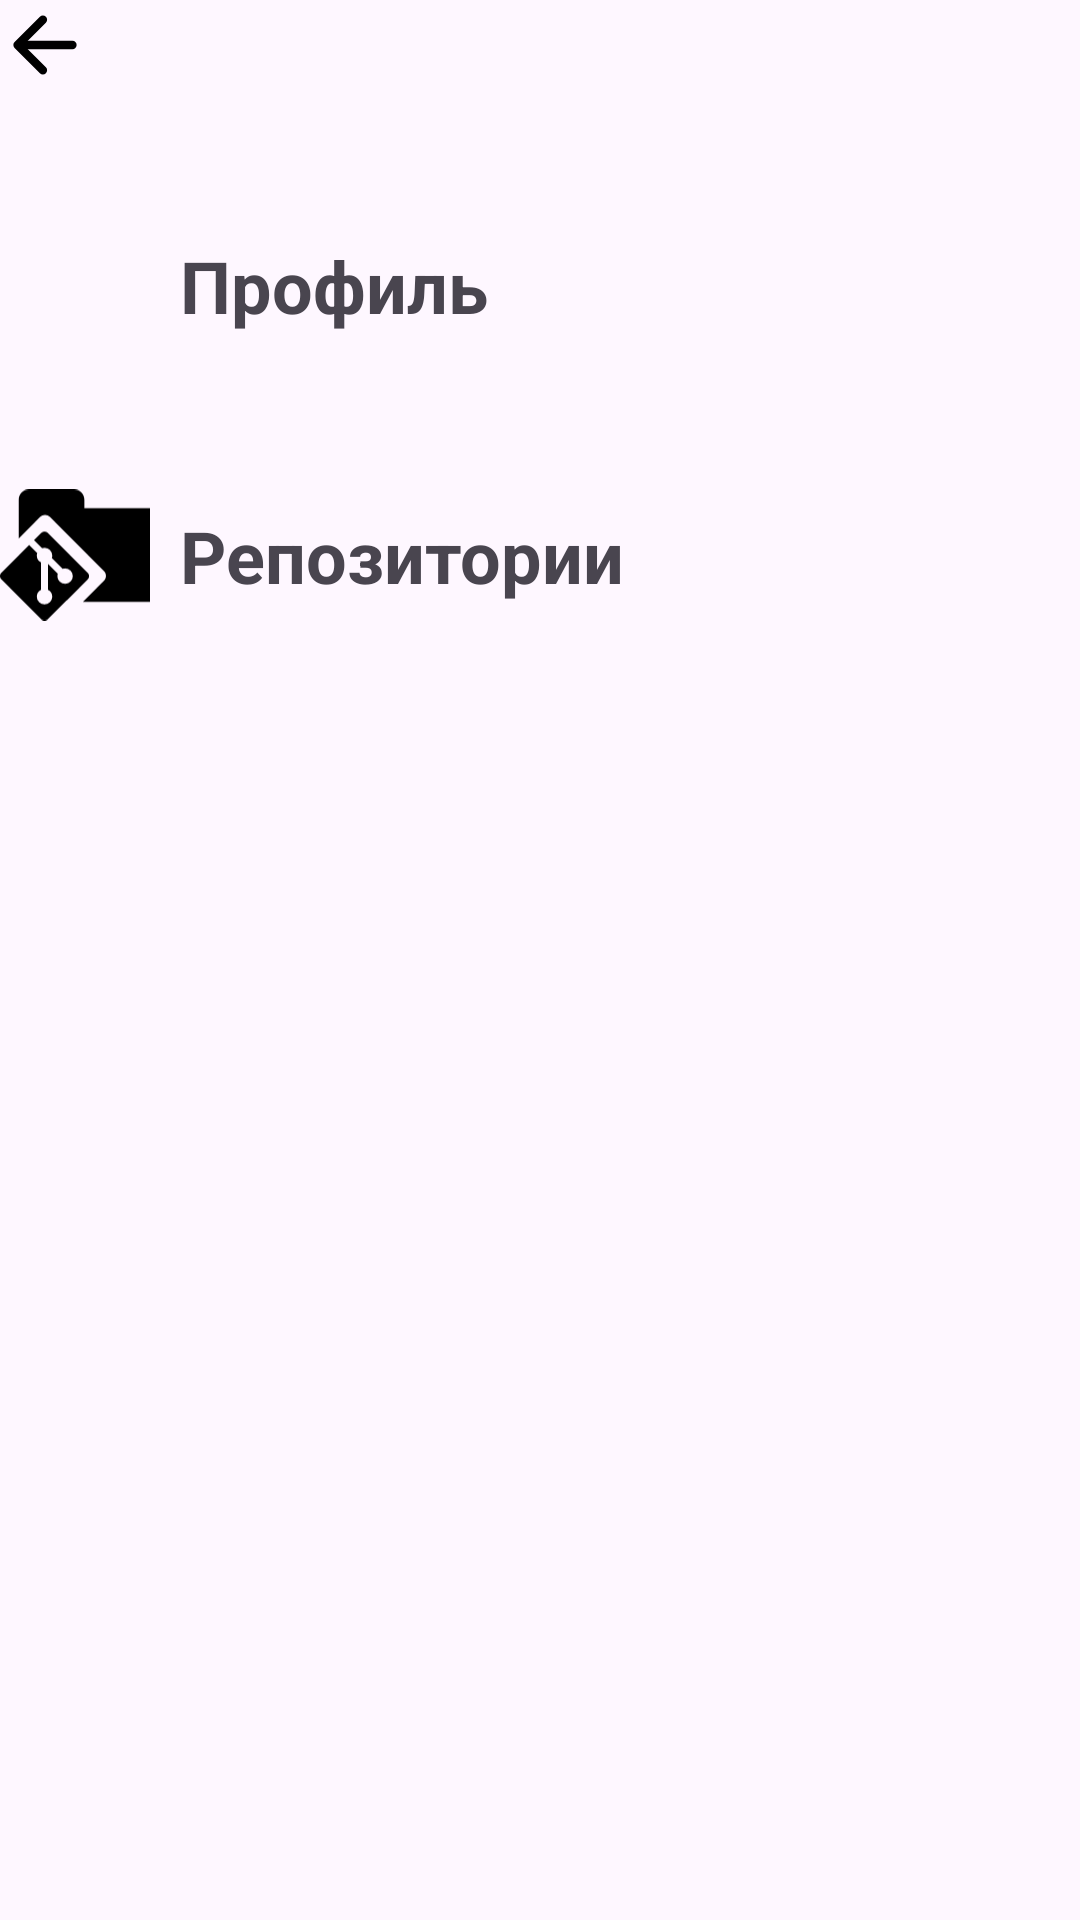

Icons on this 1080px x 1920px Android screen, each with its box as (x1, y1, x2, y2):
arrow back: (13, 15, 77, 75)
